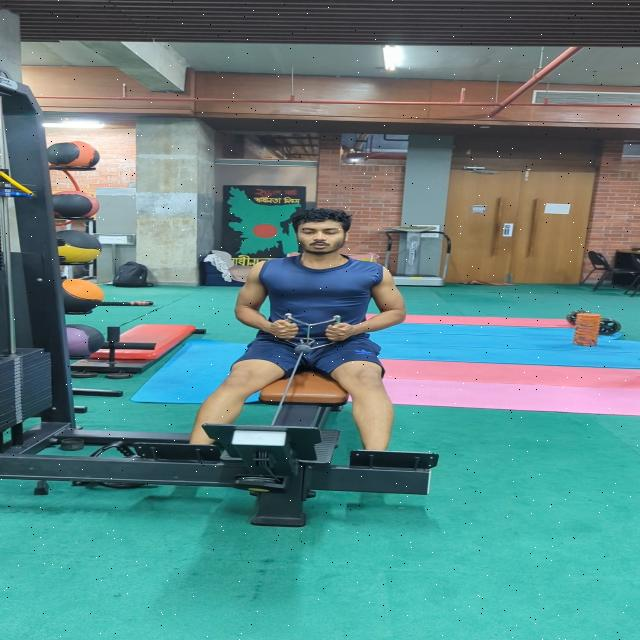Normal_RowingMachineExercise: (184, 202, 421, 463)
